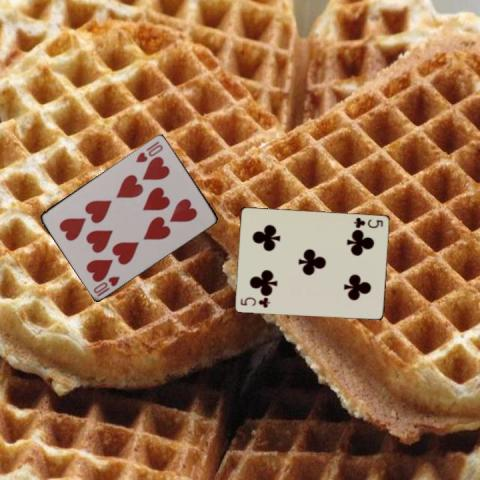10h: (132, 138, 164, 163), (91, 273, 121, 298)
5c: (351, 215, 384, 230), (237, 295, 271, 309)
